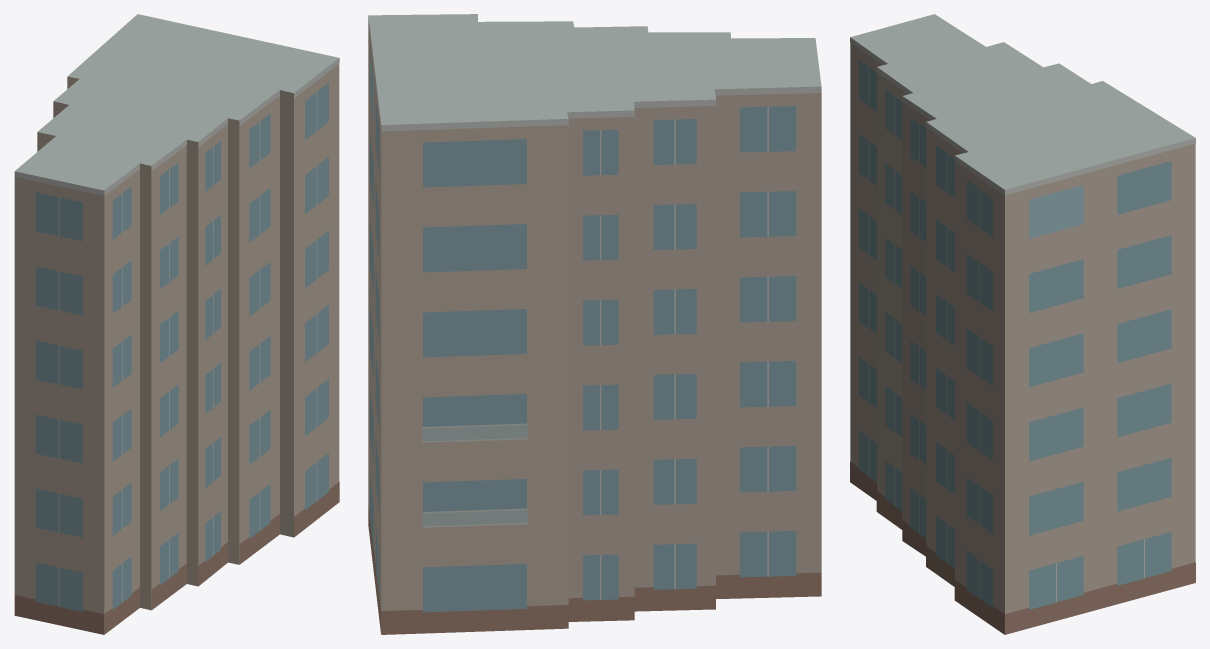
Rendered from survey-upis-32994783.glb.
3 views of the same model, side by side, from view 1: azimuth 30°, elevation 25°; view 2: azimuth 150°, elevation 25°; view 3: azimuth 270°, elevation 25° (orthographic). The views are drawn at different scales.
Parts seen in each view (by area): view 1: survey-upis-32994783.tmp; view 2: survey-upis-32994783.tmp; view 3: survey-upis-32994783.tmp.
Part boxes in pixels (x1=…): survey-upis-32994783.tmp: x1=14, y1=14, x2=339, y2=634; survey-upis-32994783.tmp: x1=368, y1=14, x2=821, y2=634; survey-upis-32994783.tmp: x1=850, y1=14, x2=1195, y2=634.
Bounding box in the file's own units: 16.67 × 19.65 × 13.84.
